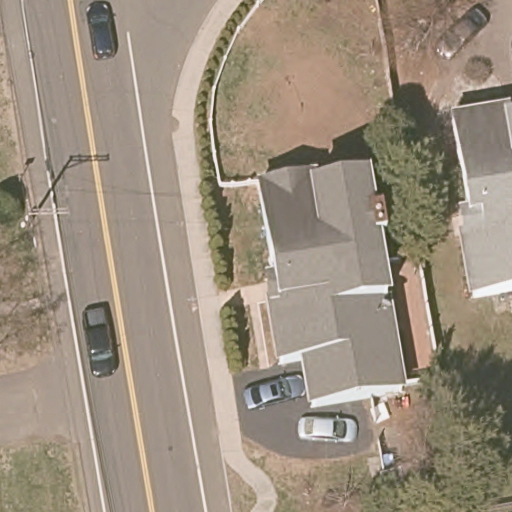DT: (20, 197, 71, 230)
